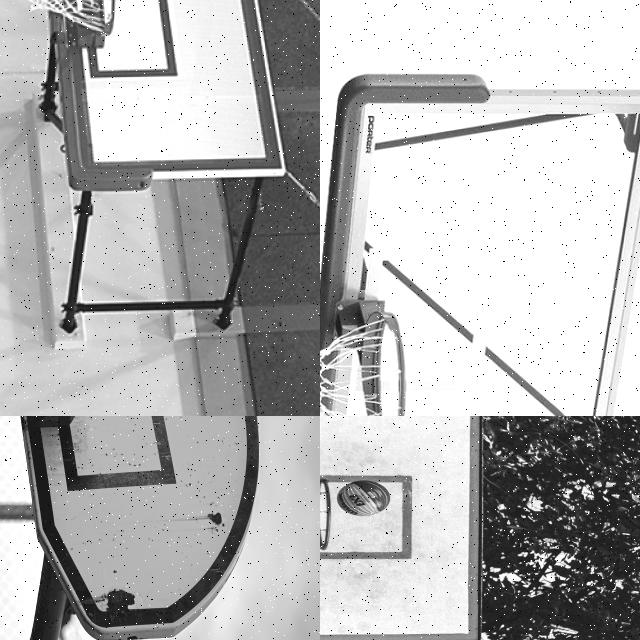backboard: (320, 85, 640, 416), (19, 416, 261, 637), (320, 416, 520, 640), (56, 0, 282, 180)
